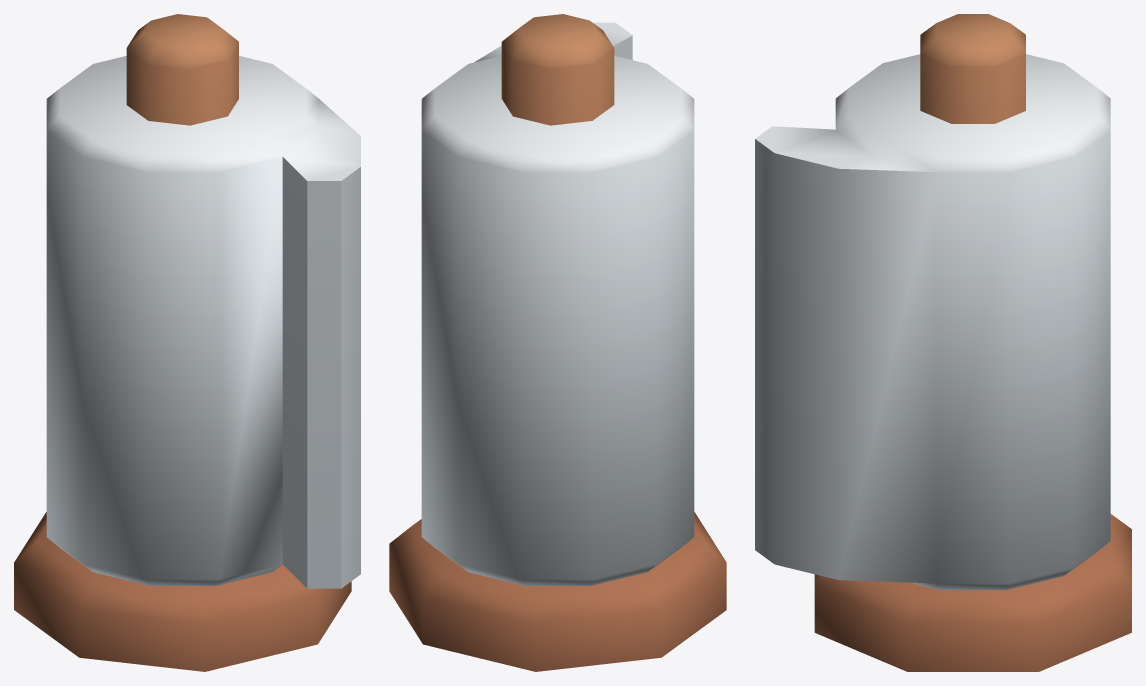
The model's file is Papertowel Holder.glb.
The picture shows the model from 3 angles, left to right: view 1: azimuth 30°, elevation 25°; view 2: azimuth 150°, elevation 25°; view 3: azimuth 270°, elevation 25°; orthographic projection.
Visible parts, largest first — view 1: papertowel_holder; view 2: papertowel_holder; view 3: papertowel_holder.
Boxes of the visible parts, bbox=[...] form: papertowel_holder: bbox=[14, 14, 360, 671]; papertowel_holder: bbox=[389, 14, 726, 671]; papertowel_holder: bbox=[755, 14, 1131, 671].
Bounding box in the file's own units: 0.4 × 0.8 × 0.475.
Materials: 1 (1 with a texture image).
